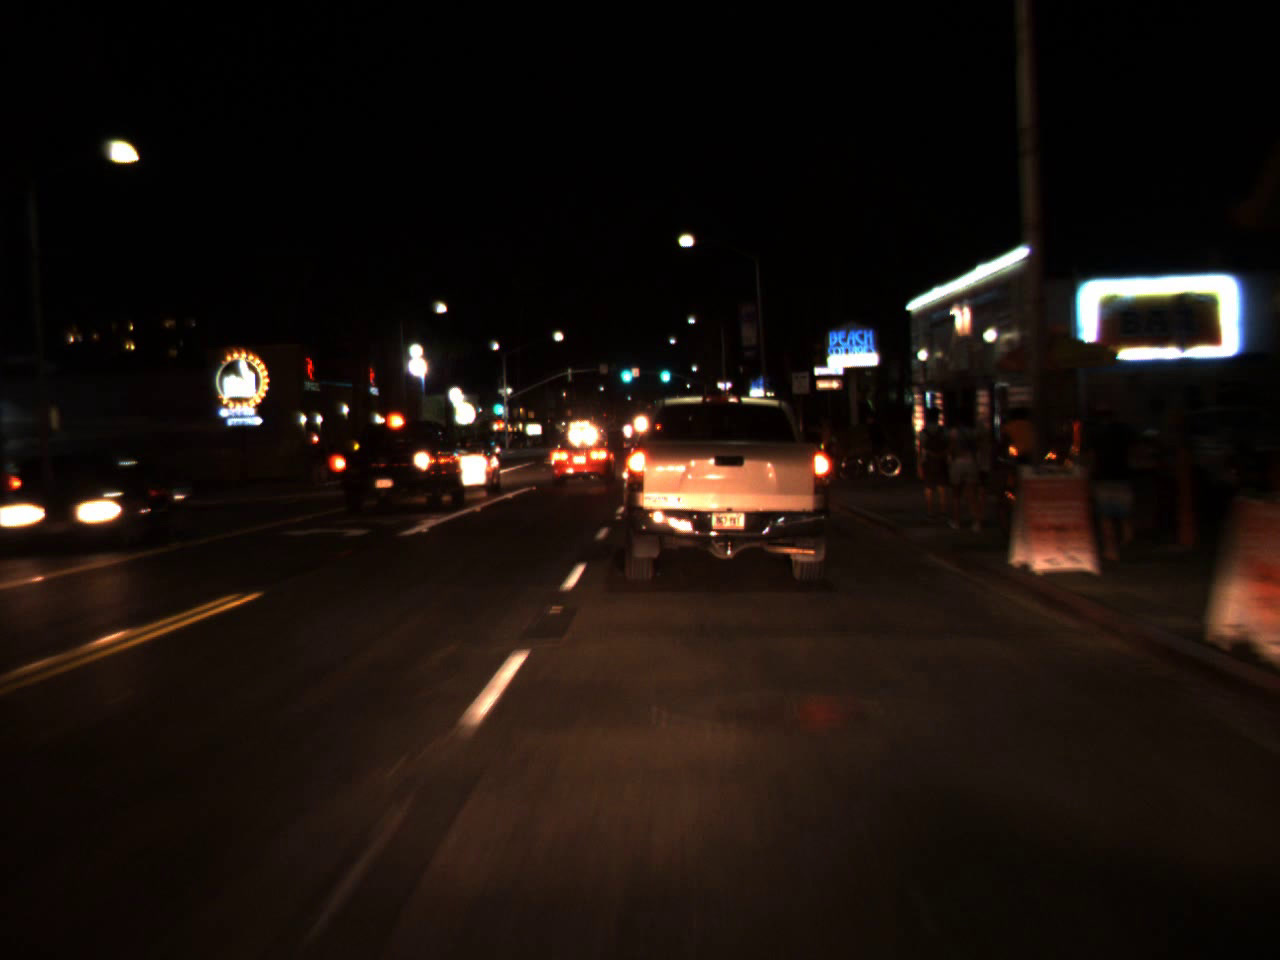go: (617, 354, 635, 387), (490, 391, 504, 418), (658, 358, 672, 385)
